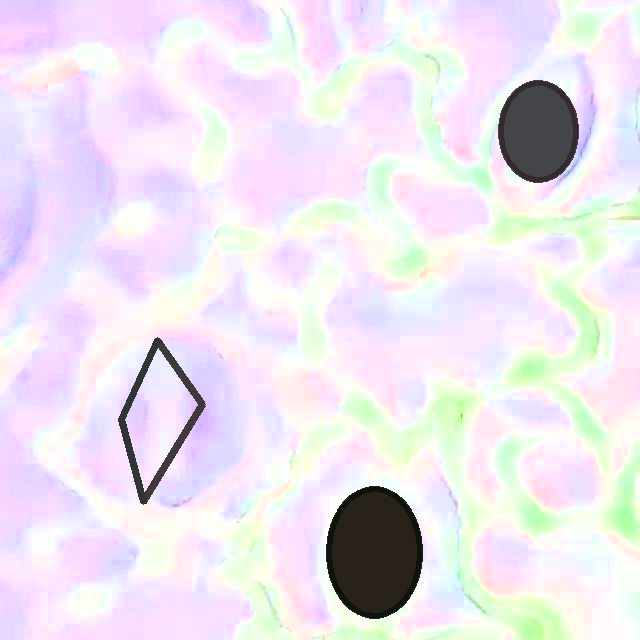close: (118, 337, 205, 504)
open: (325, 485, 423, 618), (498, 80, 577, 182)
